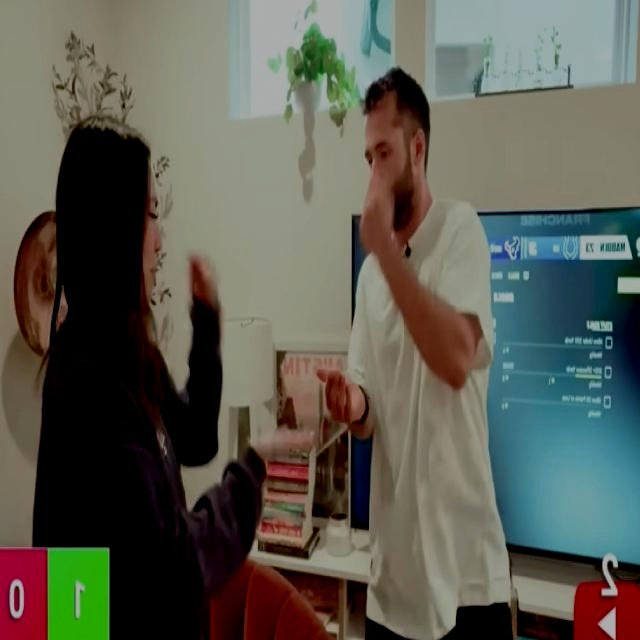Rock: (358, 171, 393, 271), (188, 251, 218, 308)
